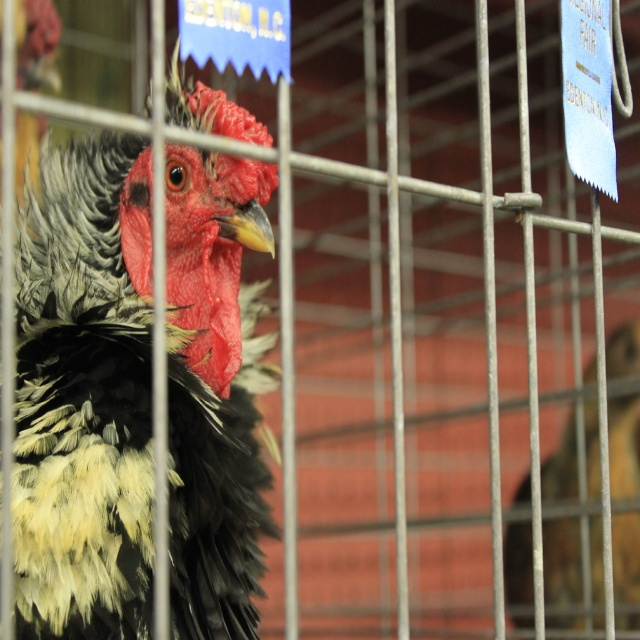Chicken: (19, 96, 280, 604)
